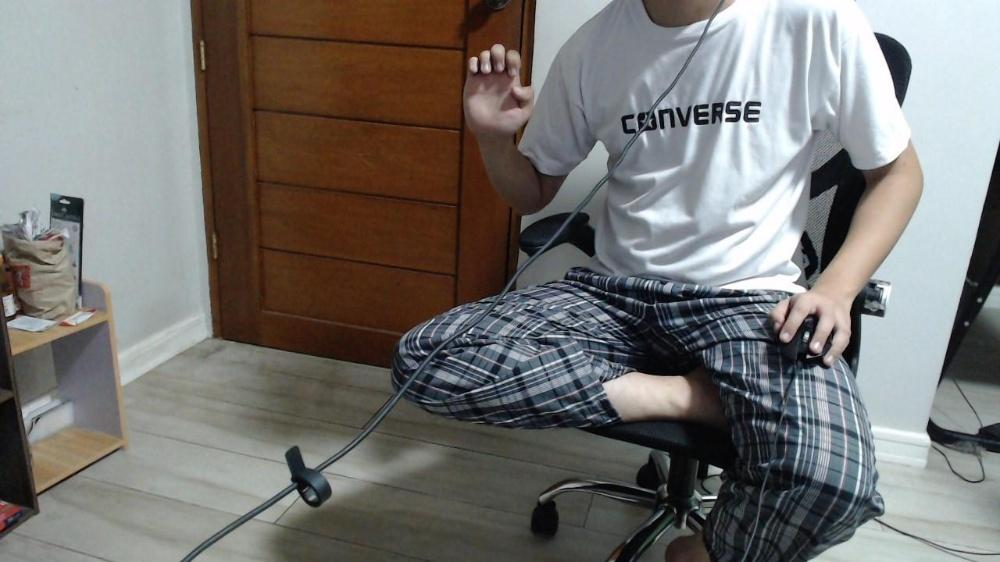e: (463, 44, 536, 136)
